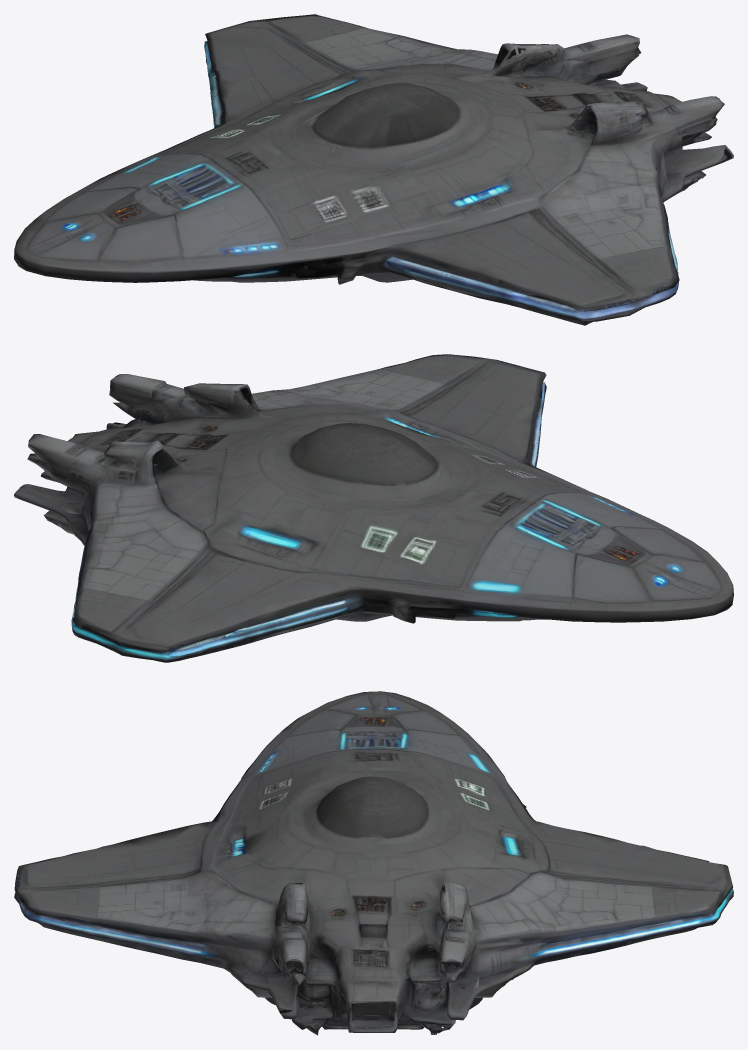
Rendered from xwing.glb.
The picture shows the model from 3 angles, top to bottom: view 1: azimuth 30°, elevation 25°; view 2: azimuth 150°, elevation 25°; view 3: azimuth 270°, elevation 25°; orthographic projection. The views are drawn at different scales.
Size of the model in its own units: 2 by 0.4843 by 1.97.
Materials: 1 (1 with a texture image).
